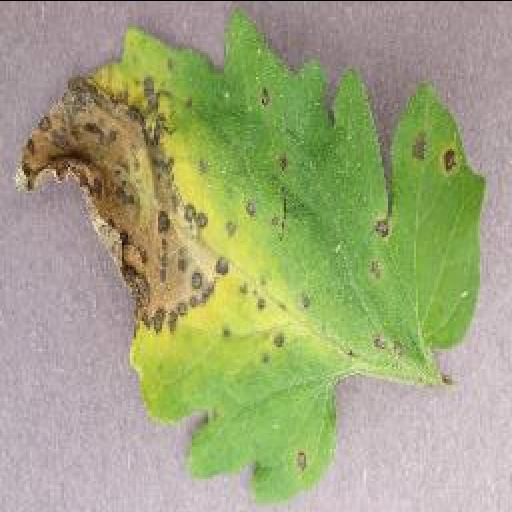disease_tomato: (18, 10, 484, 498)
